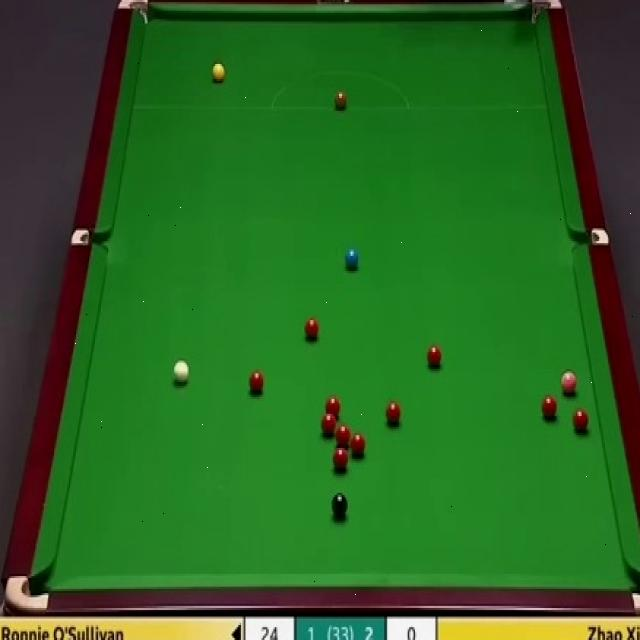black-ball: (333, 492, 348, 519)
blue-ball: (346, 246, 359, 270)
brown-ball: (333, 90, 349, 110)
pink-ball: (560, 370, 577, 394)
red-ball: (386, 399, 403, 428), (572, 408, 591, 433), (303, 318, 321, 342), (540, 394, 556, 420), (248, 368, 264, 393), (427, 344, 442, 369), (351, 432, 366, 457), (332, 448, 348, 471), (322, 413, 336, 439), (336, 428, 352, 450), (325, 396, 340, 419)
white-ball: (173, 360, 190, 382)
yellow-ball: (211, 61, 226, 85)
